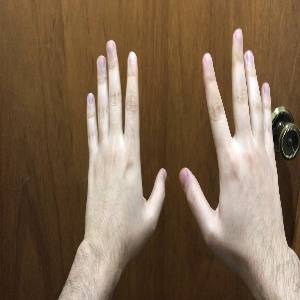hand: (179, 29, 288, 252), (86, 39, 167, 252)
